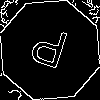P: (25, 25, 71, 78)
